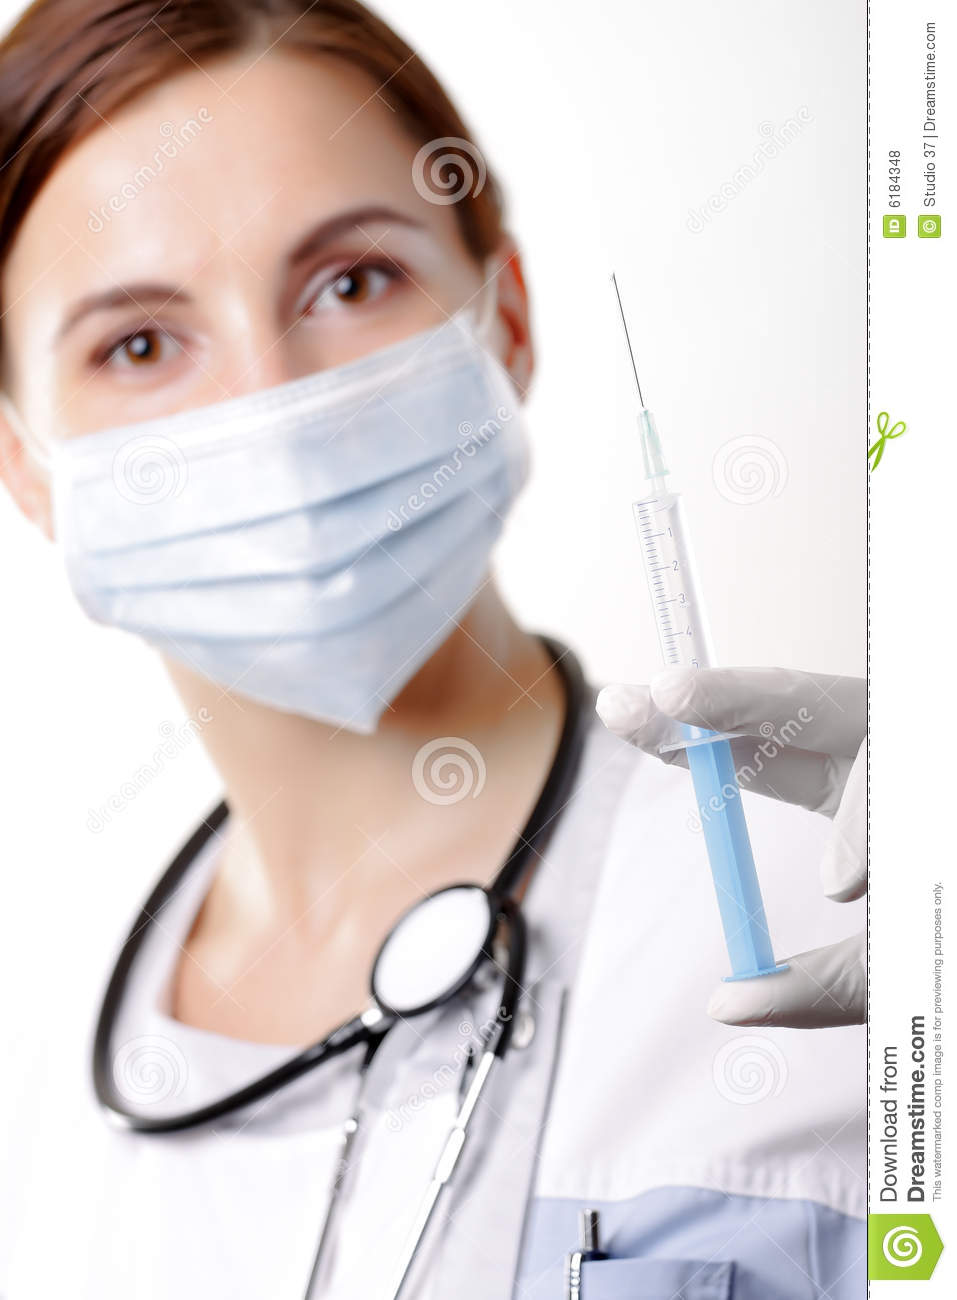mask: (54, 325, 537, 737)
